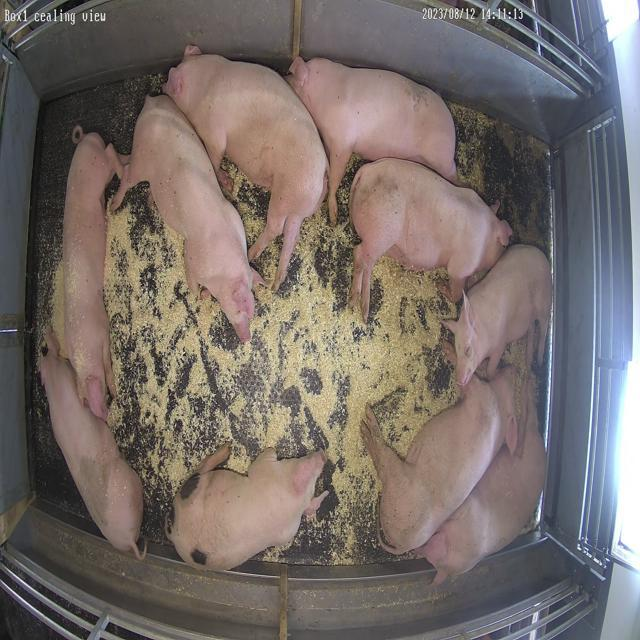Dirt: (450, 102, 551, 254)
Pig: (164, 45, 328, 290), (111, 95, 263, 342), (362, 369, 519, 556), (288, 56, 455, 222), (415, 386, 547, 586), (350, 158, 512, 320), (39, 335, 143, 560), (167, 448, 328, 571), (63, 126, 123, 420), (444, 244, 553, 386)
